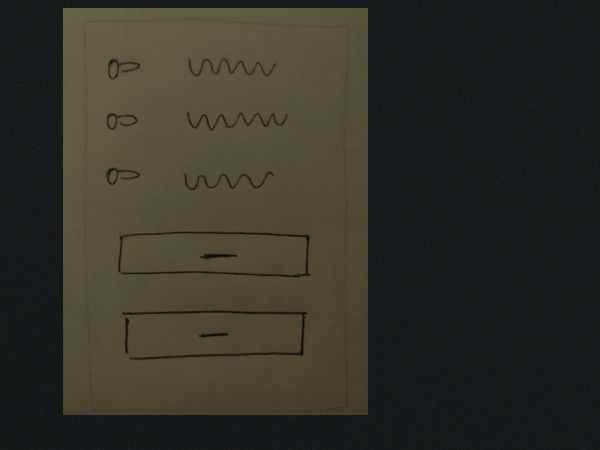button: (115, 304, 310, 372), (109, 226, 319, 284)
switch: (101, 47, 145, 84), (100, 160, 145, 189), (100, 107, 142, 137)
text: (181, 48, 280, 87), (177, 166, 281, 196), (181, 105, 290, 133)
